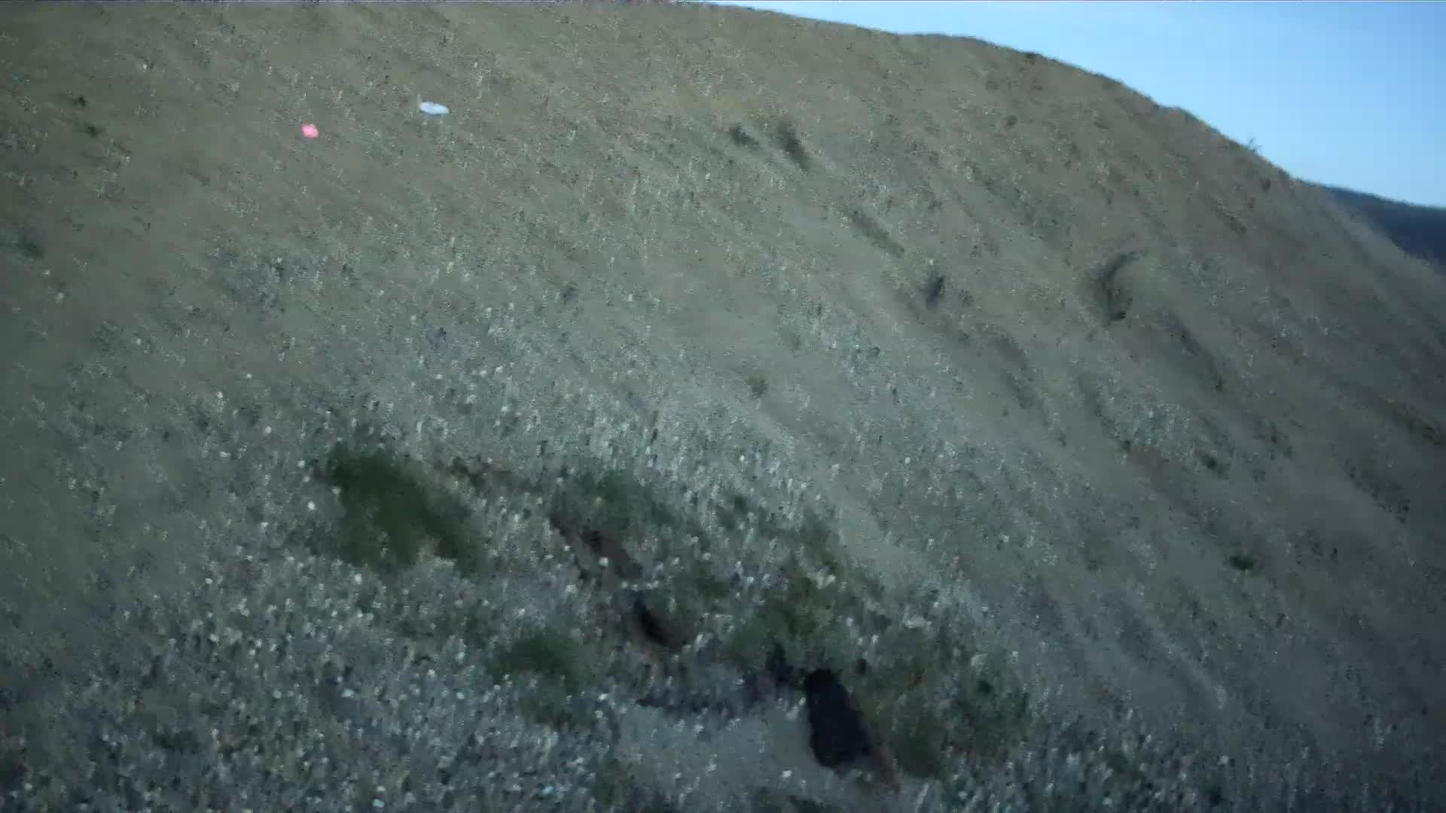Target: (418, 102, 450, 115)
